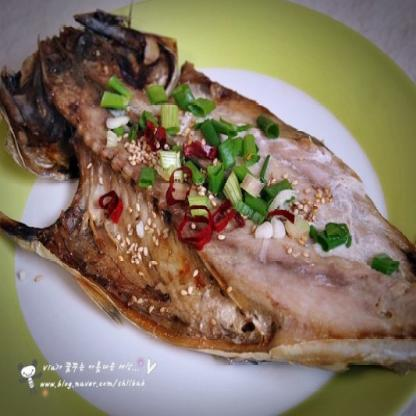Peixe: (0, 0, 416, 379)
